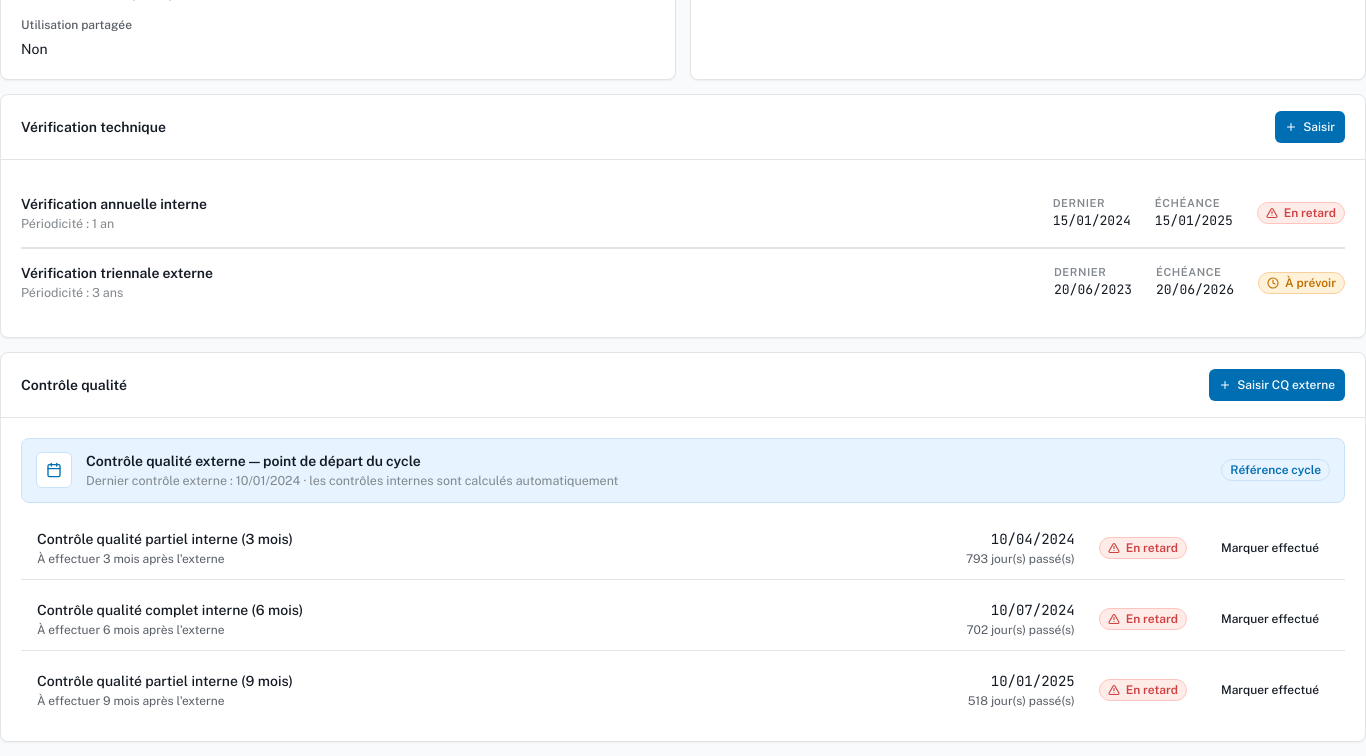
Scenario: AppareilFiche › should allow clicking Saisir CQ externe button
The width and height of the screenshot is (1366, 756).
(page scrolled)
Click the button "Saisir CQ externe" at (1277, 385), box [1209, 369, 1345, 401]
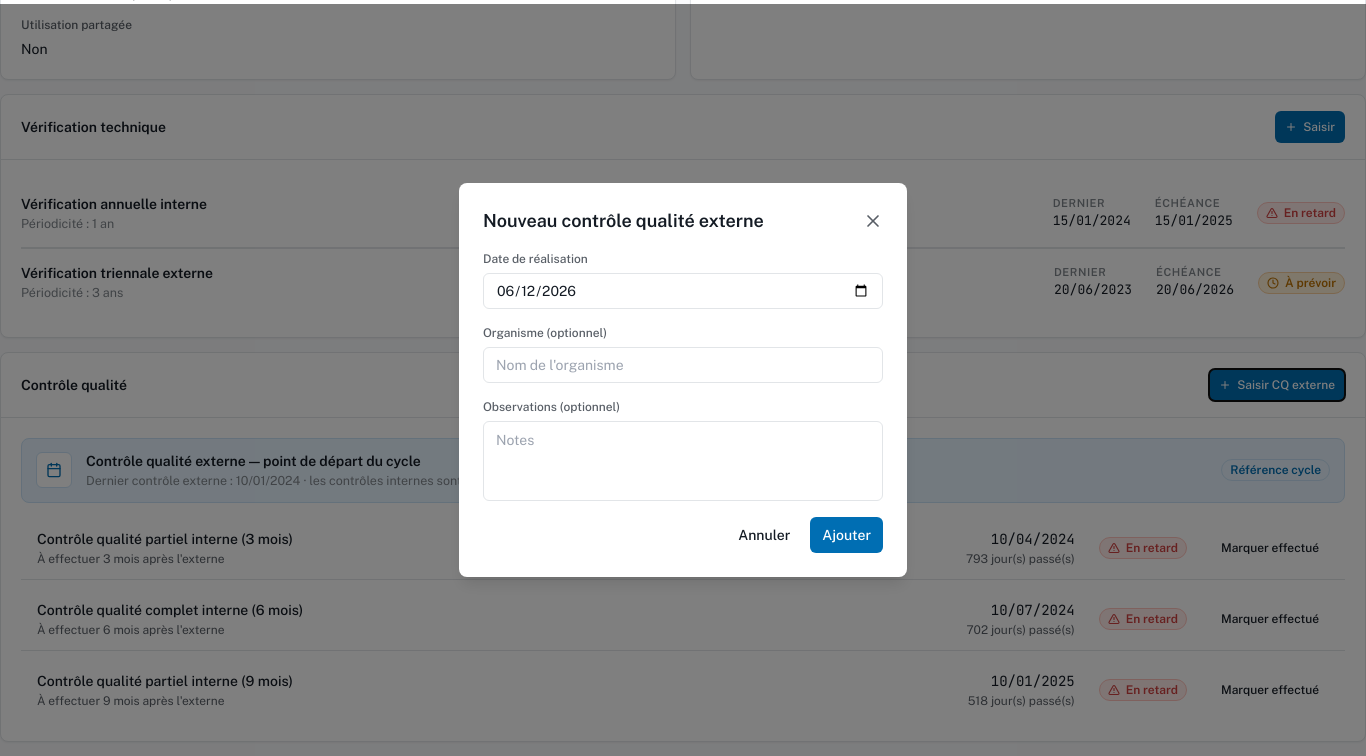
Expected: the heading "Nouveau contrôle qualité externe" is shown, [483, 207, 764, 235]
